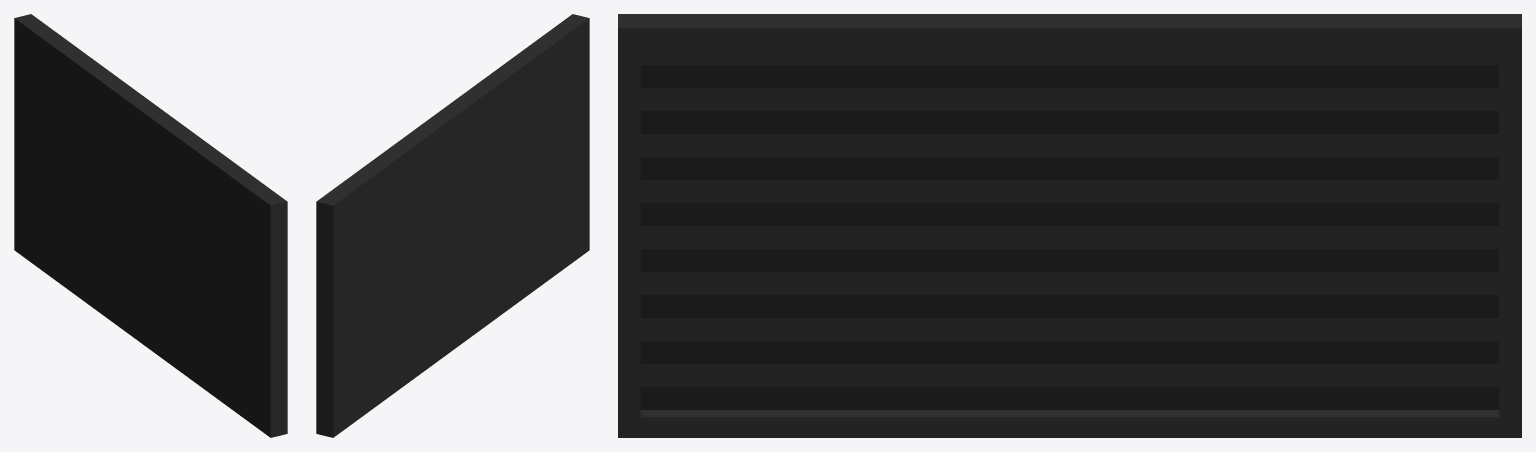
The model's file is Vent.fbx.
The picture shows the model from 3 angles, left to right: view 1: azimuth 30°, elevation 25°; view 2: azimuth 150°, elevation 25°; view 3: azimuth 270°, elevation 25°; orthographic projection. The views are drawn at different scales.
Visible parts, largest first — view 1: Cube; view 2: Cube; view 3: Cube.
Part boxes in pixels (x1,y1,x2,y2): Cube: [14, 14, 287, 437]; Cube: [316, 14, 589, 437]; Cube: [618, 14, 1521, 437].
Bounding box in the file's own units: 15.15 × 200 × 400.
